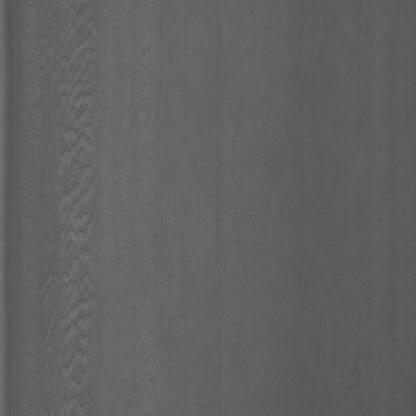silk_spot: (45, 2, 106, 394)
